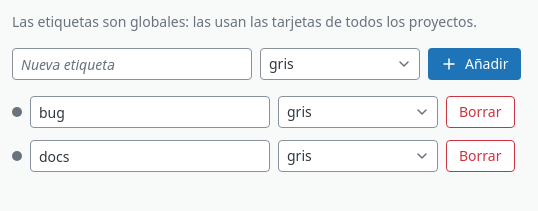
Test case: Etiquetas (RF-23, 4.8) › RF-23: renombrar a un nombre existente (409) revierte y avisa
The image size is (538, 211).
Replace the text in the field named "Nombre de la etiqueta bug" with "docs": coordinates (150, 112) [30,96,270,128]
Then press Enter
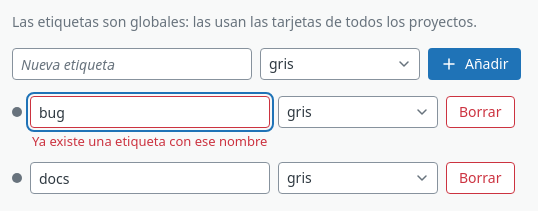
Expected: the message shows "Ya existe", [32,132,268,150]
